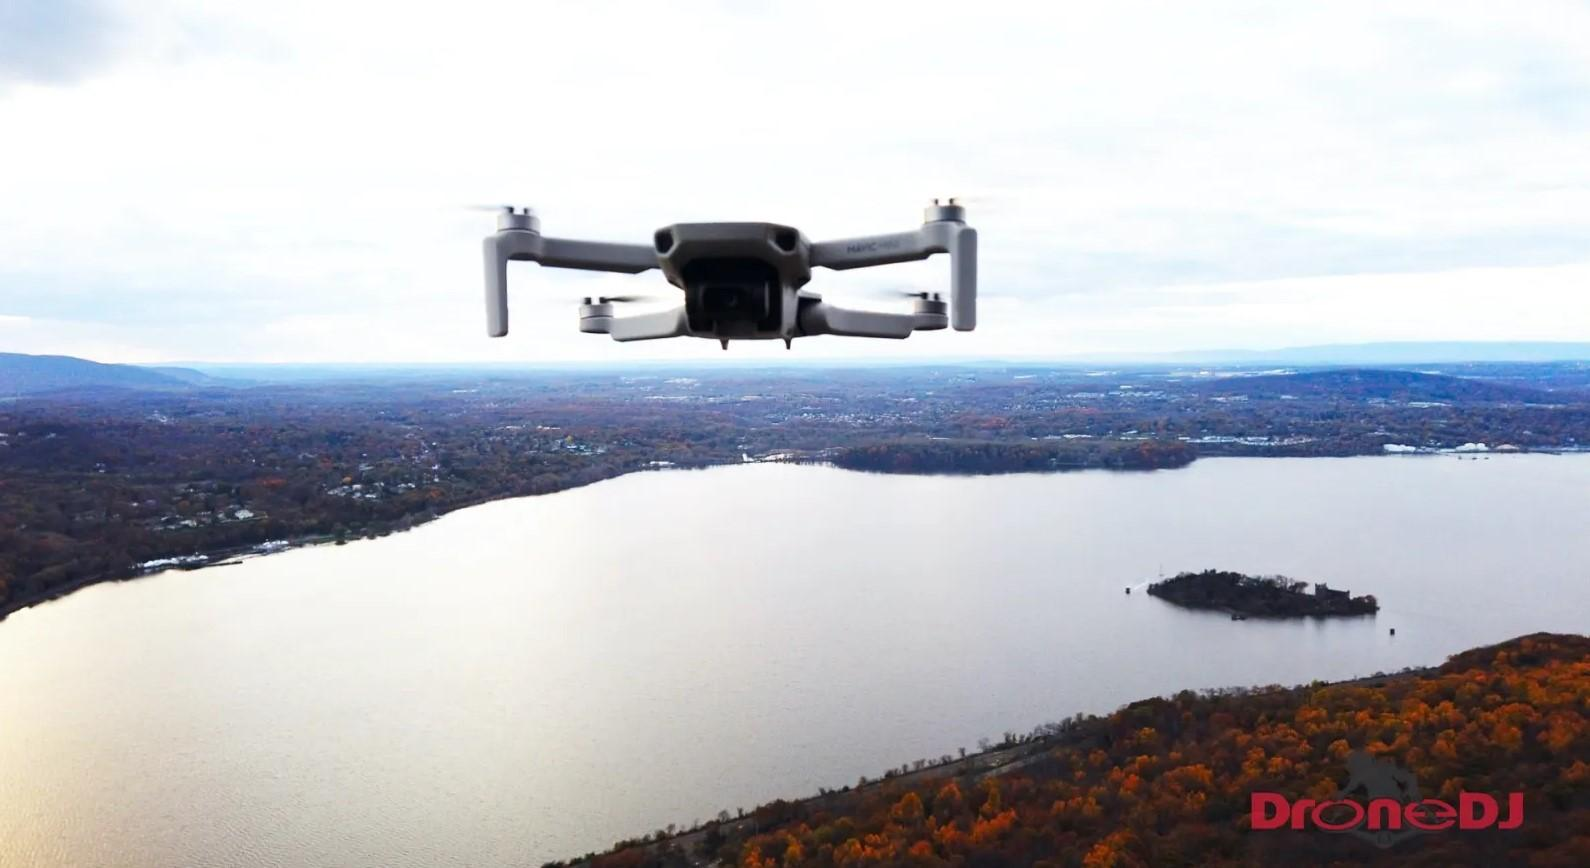drone: (455, 192, 982, 355)
